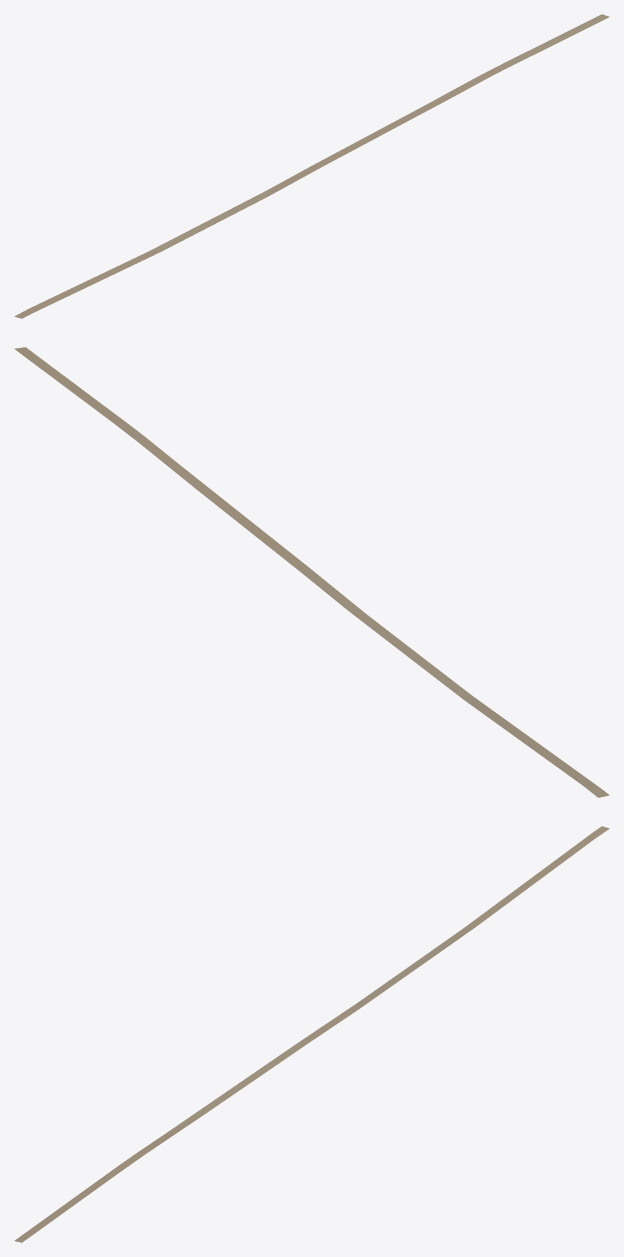
File: farm_7_9_track.glb
3 views of the same model, one above another, from view 1: azimuth 90°, elevation 25°; view 2: azimuth 150°, elevation 25°; view 3: azimuth 270°, elevation 25° (orthographic). The views are drawn at different scales.
Parts seen in each view (by area): view 1: geometry_0; view 2: geometry_0; view 3: geometry_0.
Boxes of the visible parts, <box> form: geometry_0: <box>14,14,609,318</box>; geometry_0: <box>14,347,609,797</box>; geometry_0: <box>14,826,609,1242</box>.
Bounding box in the file's own units: 288 × 21.06 × 201.
